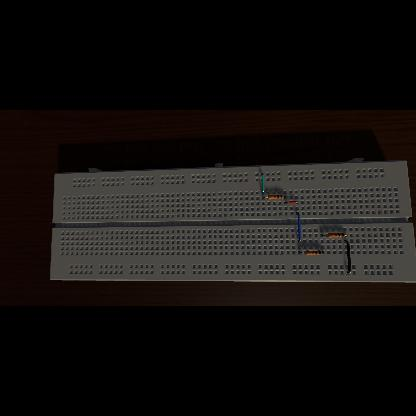breadboard: (50, 158, 416, 282)
resistor: (304, 250, 322, 256), (267, 194, 283, 199), (328, 233, 344, 238)
wire: (344, 240, 352, 274), (296, 212, 302, 242), (262, 173, 264, 193), (284, 202, 298, 204), (298, 252, 304, 254), (320, 235, 328, 236), (284, 196, 286, 198), (345, 234, 347, 236), (322, 252, 324, 254), (262, 198, 268, 198)
